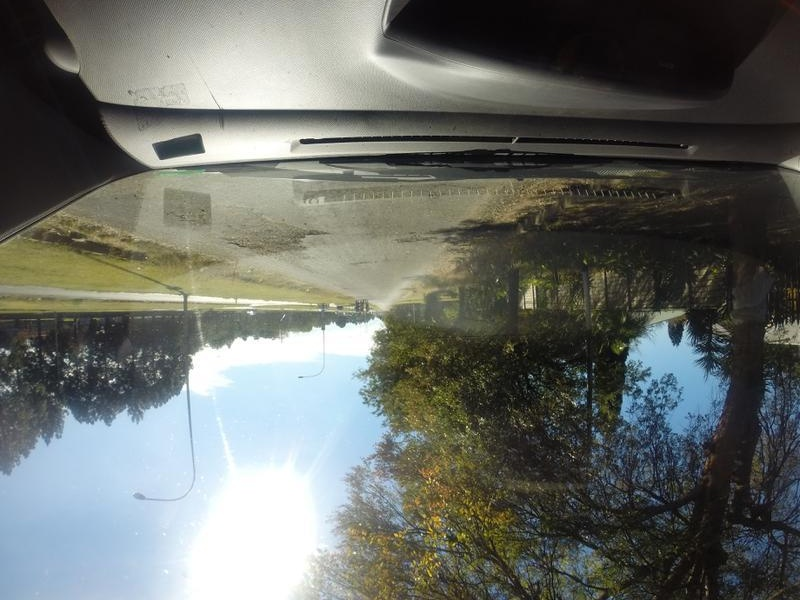pothole: (209, 202, 328, 261), (154, 196, 206, 231), (376, 231, 437, 248), (336, 256, 386, 269)
